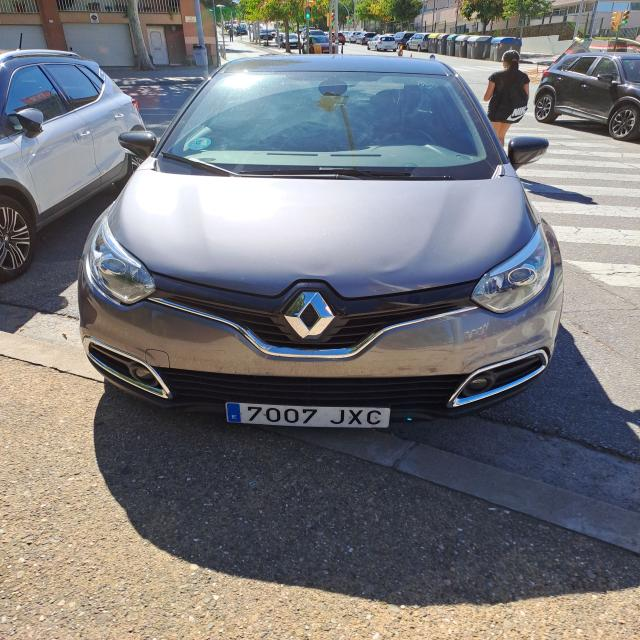license_plate-34Td: (226, 403, 390, 428)
